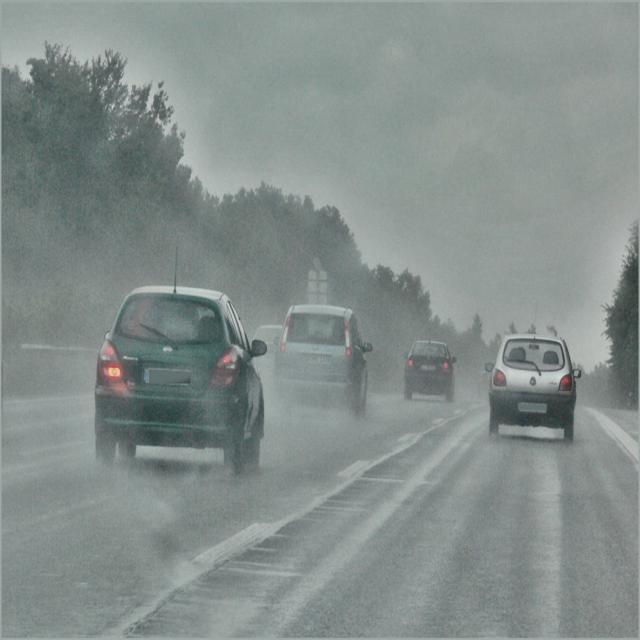car: (94, 284, 266, 476), (274, 304, 372, 418), (485, 334, 577, 441), (404, 339, 456, 401), (249, 316, 287, 386)
